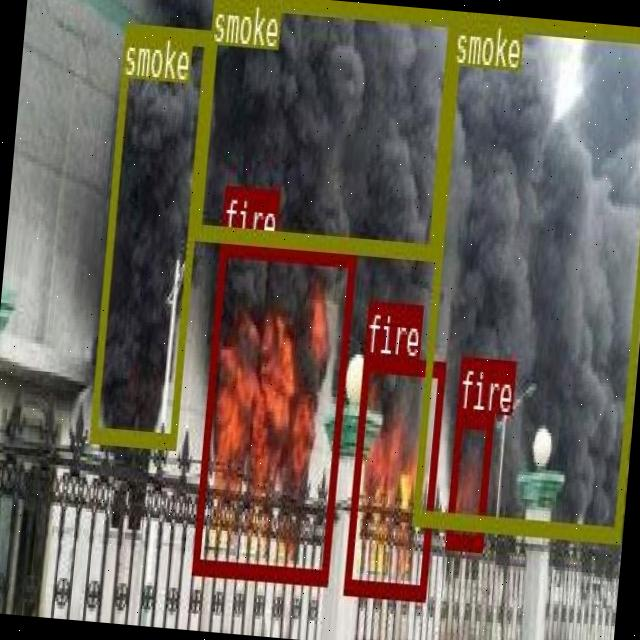fire: (190, 238, 356, 582), (342, 352, 446, 598), (444, 409, 492, 547)
smoke: (410, 10, 640, 540), (192, 0, 454, 254), (89, 20, 210, 445)
